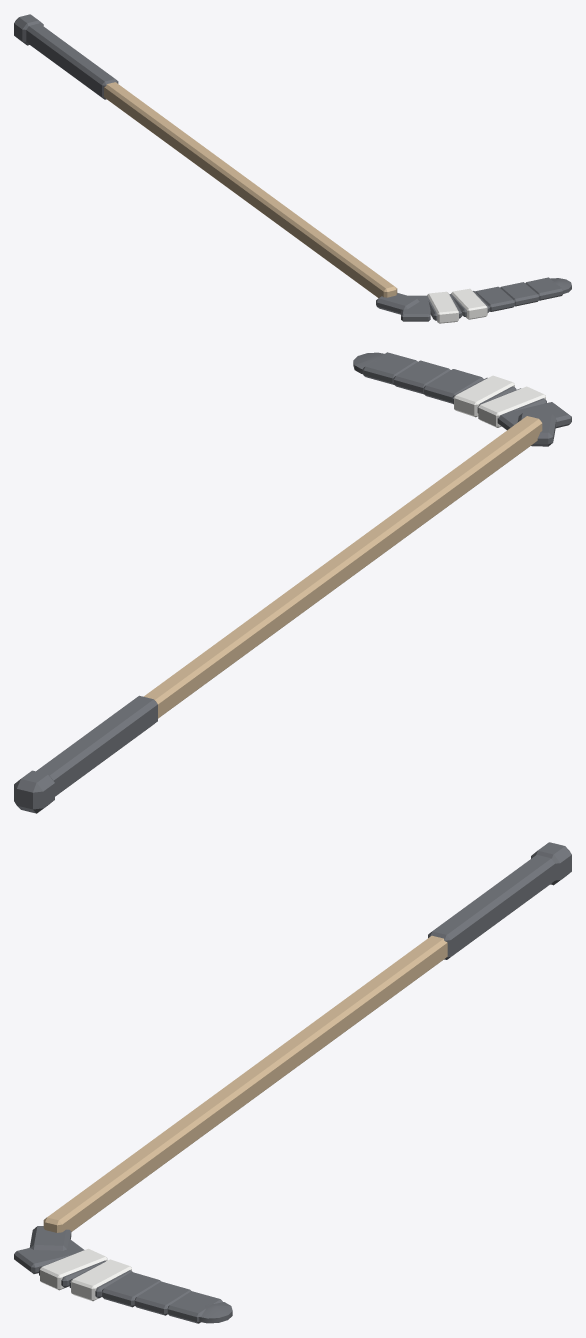
The model's file is ice-hockey-arena-and-locker-room-hockey-stick-heel-cur-ce0898c1__33716.glb.
3 views of the same model, one above another, from view 1: azimuth 30°, elevation 25°; view 2: azimuth 150°, elevation 25°; view 3: azimuth 330°, elevation 25° (orthographic). The views are drawn at different scales.
Parts seen in each view (by area): view 1: hockey-stick-heel-curve; view 2: hockey-stick-heel-curve; view 3: hockey-stick-heel-curve.
Part boxes in pixels (x1=…): hockey-stick-heel-curve: x1=14, y1=14, x2=571, y2=323; hockey-stick-heel-curve: x1=14, y1=352, x2=571, y2=813; hockey-stick-heel-curve: x1=14, y1=842, x2=571, y2=1323.
Bounding box in the file's own units: 0.3464 × 0.048 × 1.44.
